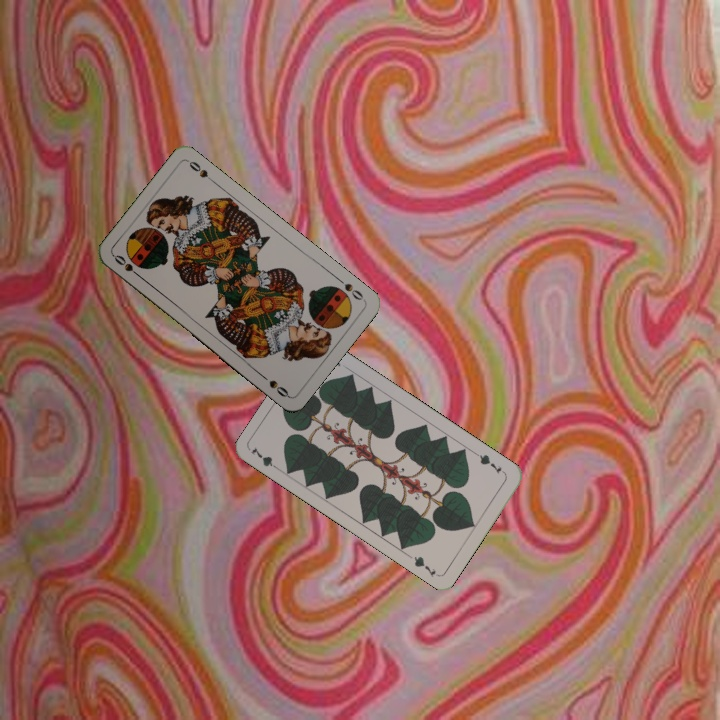G7: (247, 443, 284, 474), (472, 449, 508, 477)
SO: (110, 250, 144, 281), (333, 274, 367, 303)
